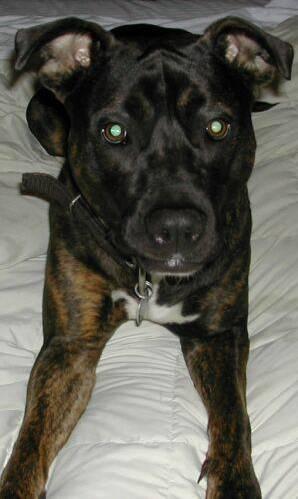dog: (0, 16, 291, 498)
